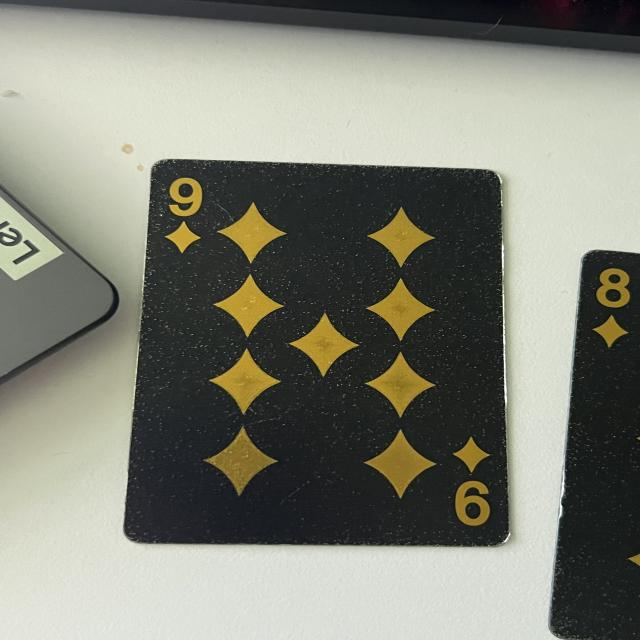8D: (588, 260, 635, 353)
9D: (444, 432, 500, 532), (155, 166, 210, 258)
